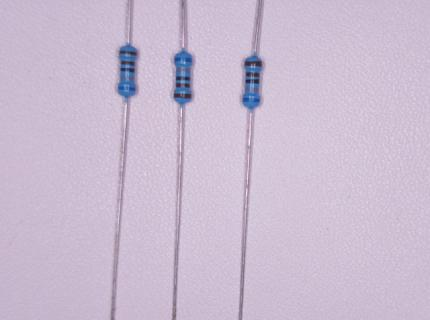Black band: (120, 68, 135, 73), (176, 76, 190, 81), (246, 79, 260, 84)
Blue band: (242, 97, 260, 103), (174, 57, 192, 62), (118, 87, 136, 91)
Brown band: (244, 61, 263, 67), (119, 50, 137, 56), (174, 93, 192, 98), (175, 83, 190, 88), (121, 61, 135, 66), (246, 72, 260, 77)
Grey band: (245, 87, 259, 92), (176, 68, 190, 73), (121, 75, 135, 80)
